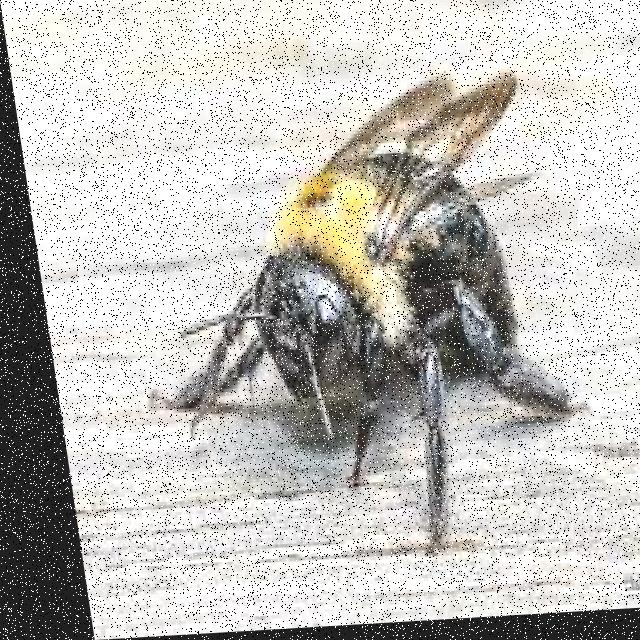Xylocopa: (127, 66, 591, 563)
